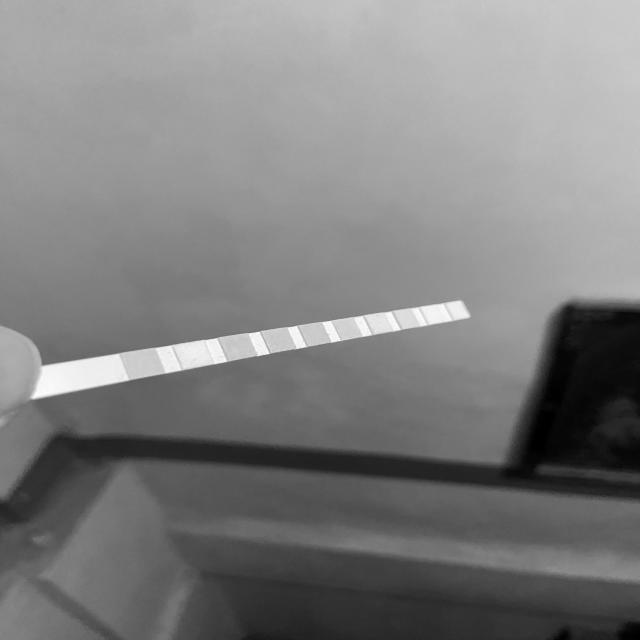Bilirubin: (181, 345, 206, 366)
Blood: (306, 324, 324, 344)
Glucose: (130, 353, 156, 374)
Ketone: (228, 336, 249, 358)
Leukocytes: (454, 302, 464, 319)
Nitrite: (428, 306, 438, 323)
Protein: (372, 314, 386, 333)
SpGravity: (271, 330, 290, 350)
Urobilinogen: (401, 310, 412, 329)
background: (0, 0, 640, 640)
pH: (340, 319, 356, 339)
strip: (45, 301, 470, 396)
